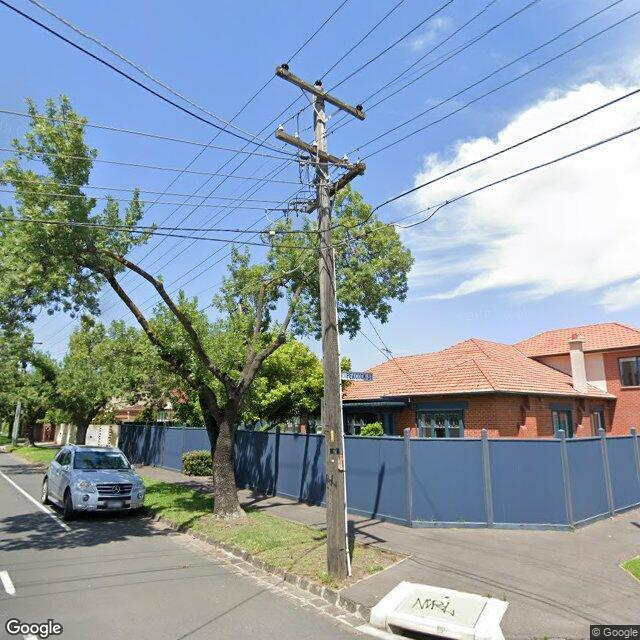HV-transmission: (281, 63, 363, 111)
crossarm: (276, 67, 365, 120), (276, 130, 364, 176), (304, 164, 366, 213)
timber-pole: (314, 85, 348, 580)
